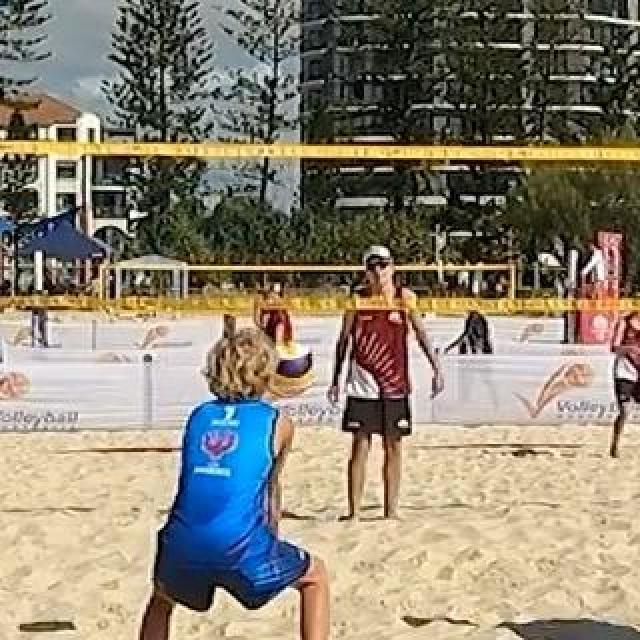volleyball: (262, 339, 314, 397)
